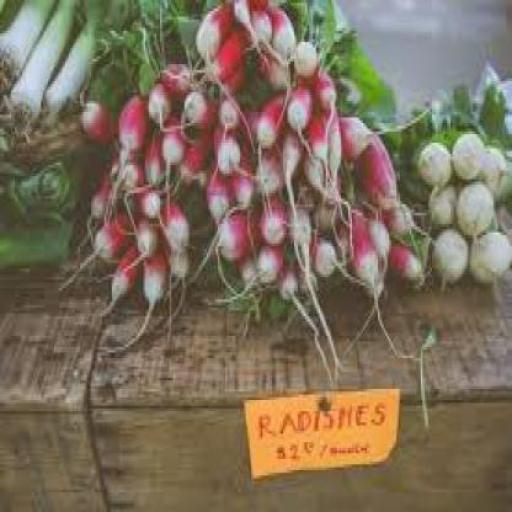biodegradable: (40, 0, 136, 118), (380, 59, 510, 143), (0, 0, 78, 127), (316, 20, 396, 120), (120, 0, 214, 81), (82, 0, 138, 101), (0, 0, 57, 85), (333, 192, 378, 288), (352, 130, 400, 216), (0, 156, 68, 213), (0, 213, 73, 266), (292, 159, 341, 232), (283, 0, 337, 48), (191, 0, 231, 62), (467, 227, 510, 283), (452, 176, 494, 233), (202, 25, 244, 81), (214, 204, 257, 258), (93, 208, 136, 260), (391, 134, 423, 202), (113, 76, 142, 150), (283, 202, 313, 272), (253, 90, 289, 148), (430, 227, 466, 283), (384, 232, 426, 280), (253, 193, 291, 246), (104, 243, 138, 302), (76, 95, 114, 145), (333, 112, 371, 162), (320, 98, 341, 188), (302, 95, 328, 162), (450, 126, 482, 179), (252, 241, 285, 291), (100, 151, 142, 190), (208, 123, 242, 171), (140, 126, 166, 188), (249, 143, 281, 193), (478, 142, 507, 196), (142, 243, 166, 308), (145, 76, 174, 128), (179, 84, 212, 129), (266, 0, 294, 53), (162, 62, 197, 104), (380, 198, 415, 240), (202, 168, 231, 218), (302, 151, 331, 201), (283, 84, 313, 132), (234, 104, 264, 148), (227, 151, 253, 201), (257, 48, 292, 84), (366, 216, 392, 264), (162, 193, 186, 244), (185, 128, 214, 170), (425, 181, 454, 221), (417, 142, 448, 179), (211, 89, 242, 126), (247, 5, 272, 50), (132, 210, 158, 252), (307, 67, 333, 109), (220, 53, 248, 92), (160, 118, 182, 166), (309, 235, 335, 275), (86, 179, 112, 216), (63, 157, 82, 207), (271, 260, 296, 294), (288, 40, 314, 72), (136, 176, 156, 213), (168, 246, 188, 280), (236, 249, 255, 283), (225, 0, 246, 28), (0, 0, 15, 28), (244, 0, 272, 11)
paper: (240, 386, 399, 478)
